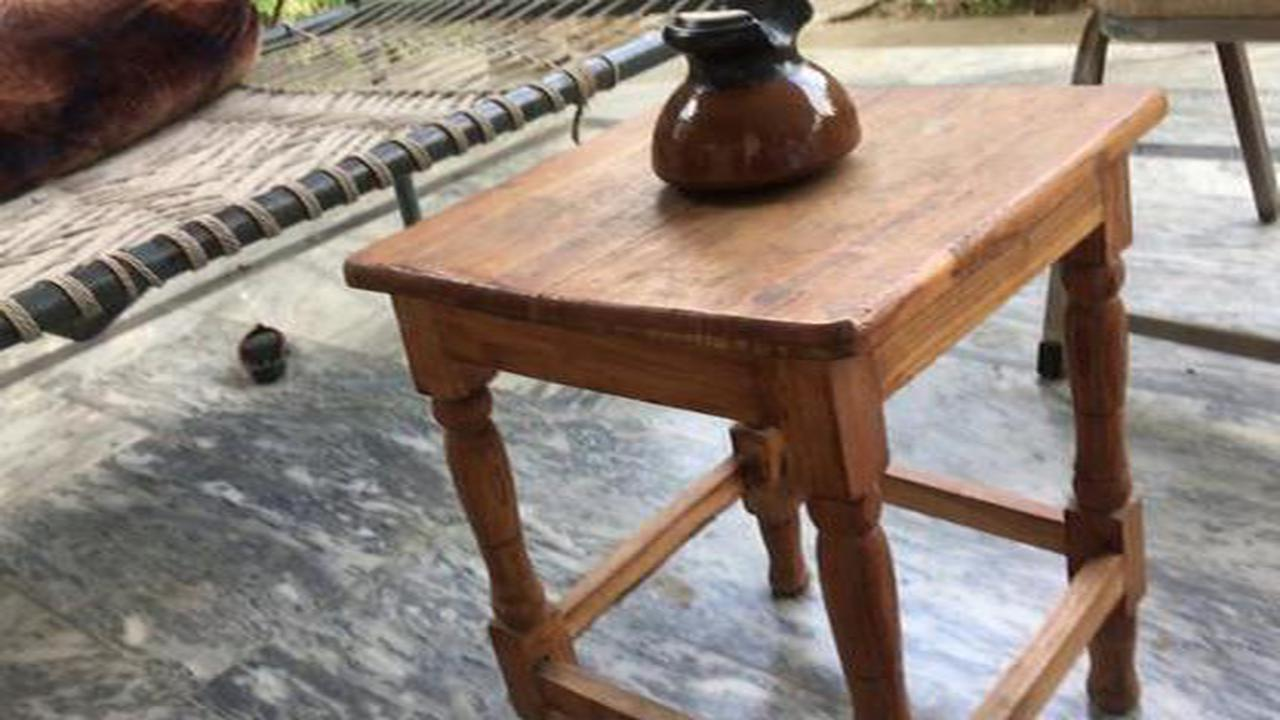insulator_pin: (634, 4, 877, 213)
